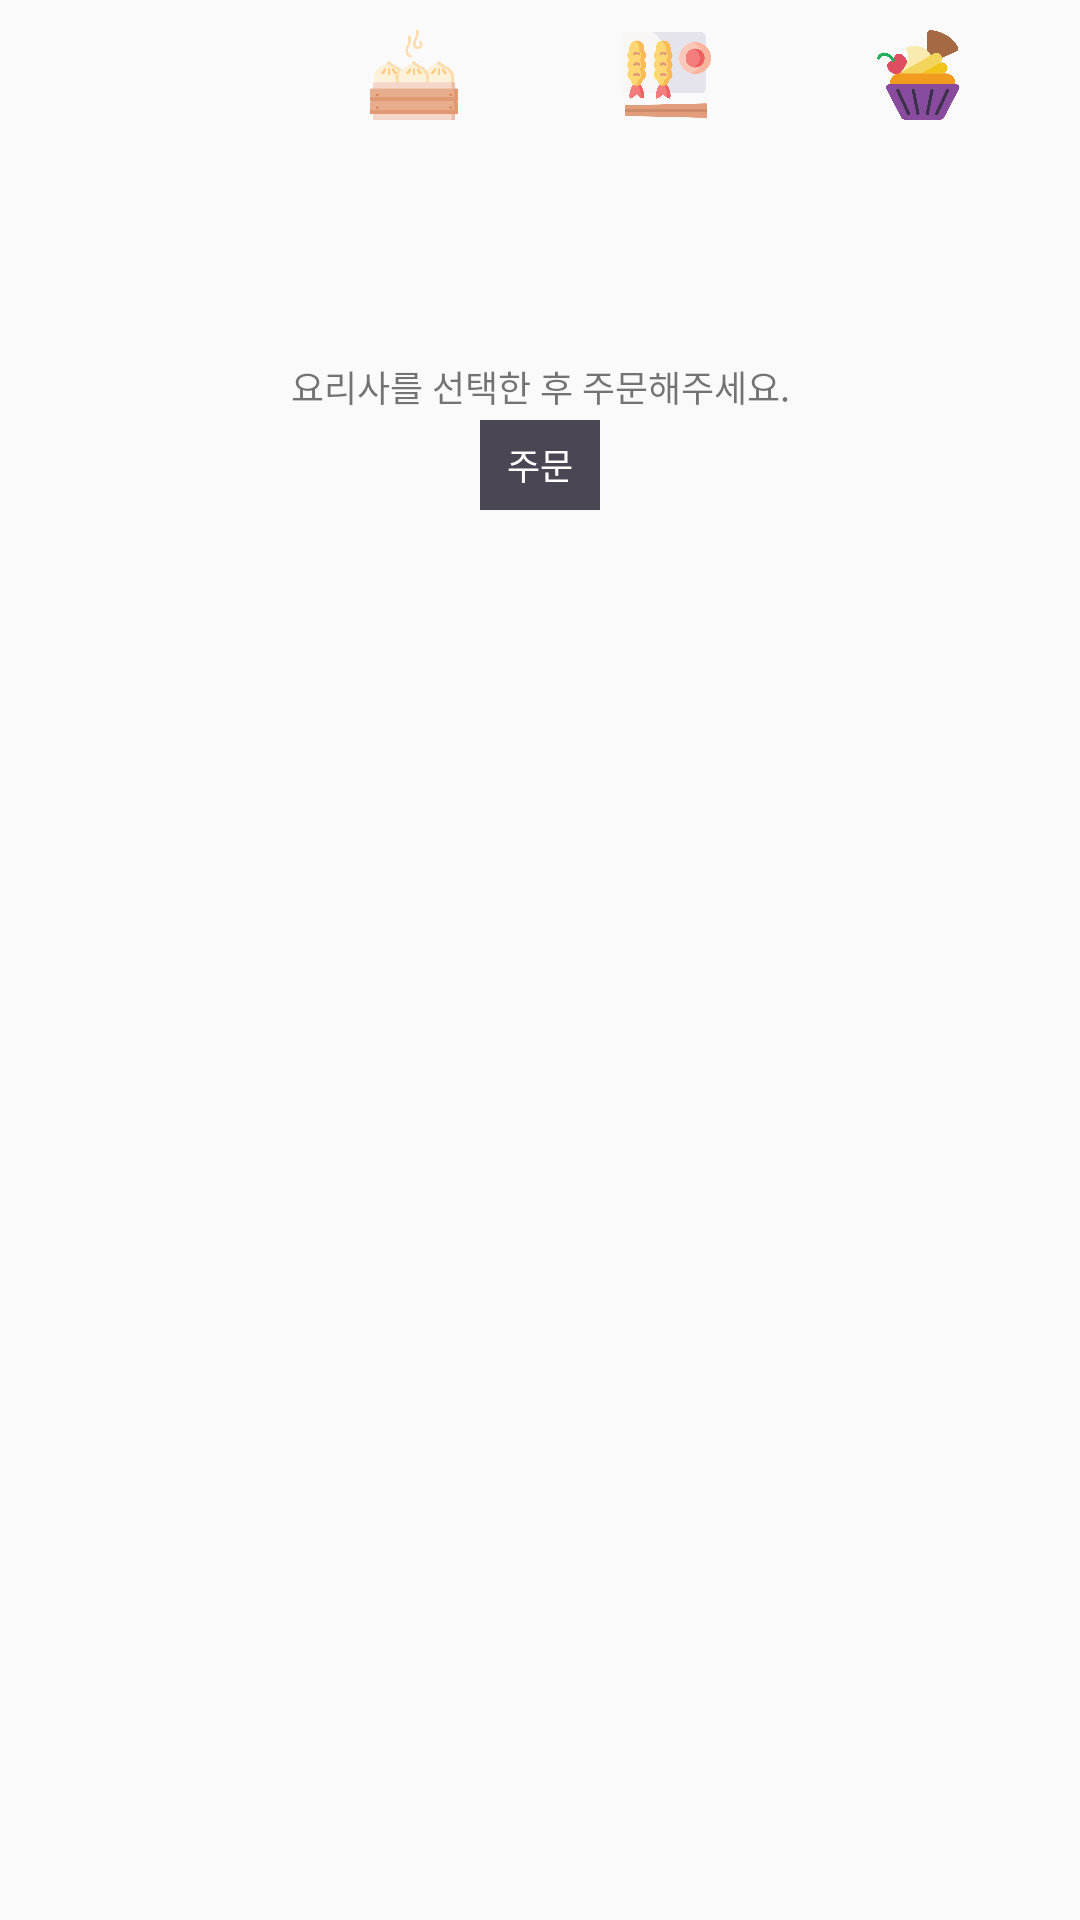

Point at icon controls on the screen. Image size 1080×1920, points as (x,y).
cake: (918,75)
tempura: (668,79)
xiaolongbao: (414,75)
